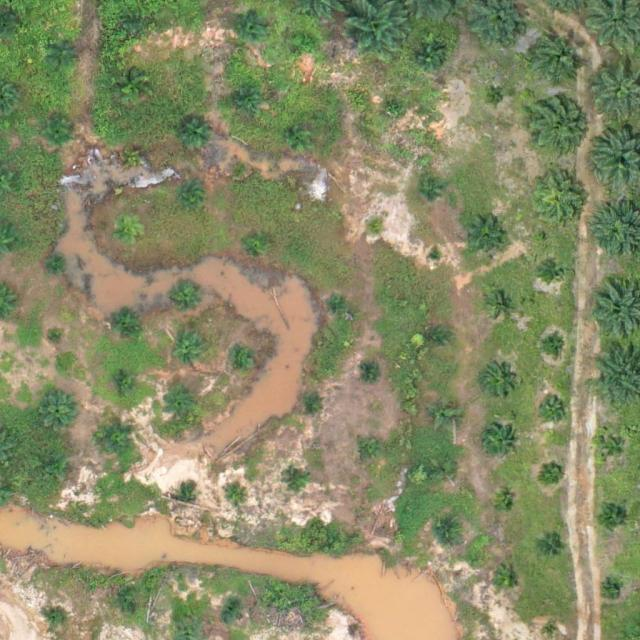Grass: (50, 37, 81, 69), (230, 87, 261, 118), (238, 10, 269, 41), (38, 455, 69, 486), (294, 32, 318, 56), (125, 11, 148, 35)
Healthy: (525, 27, 588, 90), (527, 93, 589, 156), (530, 169, 592, 232)
Small: (464, 219, 504, 259), (37, 389, 77, 428), (481, 423, 520, 463), (101, 421, 140, 460), (117, 71, 148, 103), (178, 121, 209, 153), (112, 219, 143, 251), (171, 282, 202, 314), (414, 41, 445, 73), (483, 363, 514, 395), (491, 566, 522, 598), (431, 399, 462, 431), (120, 139, 151, 171), (108, 307, 139, 338), (175, 335, 206, 366), (166, 389, 197, 420), (596, 501, 627, 532), (598, 433, 629, 464), (539, 393, 570, 424), (424, 327, 448, 351), (45, 252, 69, 276), (289, 126, 313, 150), (384, 99, 408, 123), (485, 87, 509, 111), (364, 217, 388, 241), (115, 370, 139, 394), (545, 260, 569, 284), (45, 605, 69, 629), (220, 601, 244, 625), (48, 119, 72, 142), (233, 350, 256, 374), (493, 494, 517, 517), (542, 334, 565, 358), (491, 292, 514, 316), (362, 361, 386, 384), (284, 470, 307, 494), (435, 460, 459, 483), (543, 461, 566, 485), (416, 179, 439, 203), (227, 155, 250, 179), (46, 324, 69, 348), (224, 485, 247, 509), (123, 601, 146, 625), (181, 186, 204, 209), (541, 539, 564, 562), (436, 521, 459, 544), (298, 391, 321, 414), (359, 440, 382, 463), (246, 232, 269, 255), (328, 293, 351, 316), (176, 489, 192, 505), (604, 582, 619, 598), (428, 248, 443, 263)
